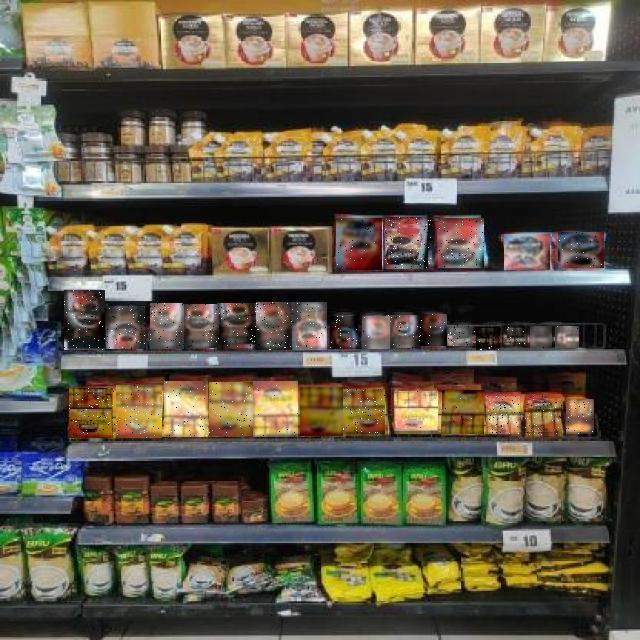Coffee: (253, 381, 298, 437), (164, 381, 208, 437), (64, 290, 105, 350), (116, 385, 162, 438), (386, 217, 432, 269), (336, 219, 382, 271), (209, 382, 253, 436), (438, 218, 484, 268), (70, 388, 116, 438), (300, 387, 343, 436), (343, 390, 385, 436), (442, 391, 484, 435), (394, 392, 438, 434), (217, 304, 257, 348), (291, 302, 327, 350), (256, 302, 292, 350), (106, 306, 145, 349), (558, 232, 604, 268), (505, 235, 551, 271), (150, 303, 184, 349), (184, 304, 219, 348), (524, 396, 562, 436), (486, 397, 520, 435), (386, 315, 420, 348), (566, 400, 594, 436), (418, 314, 447, 346), (331, 316, 359, 349), (362, 316, 390, 349), (448, 325, 476, 346), (477, 327, 501, 350), (555, 326, 579, 348), (502, 325, 526, 346), (530, 327, 552, 349)
